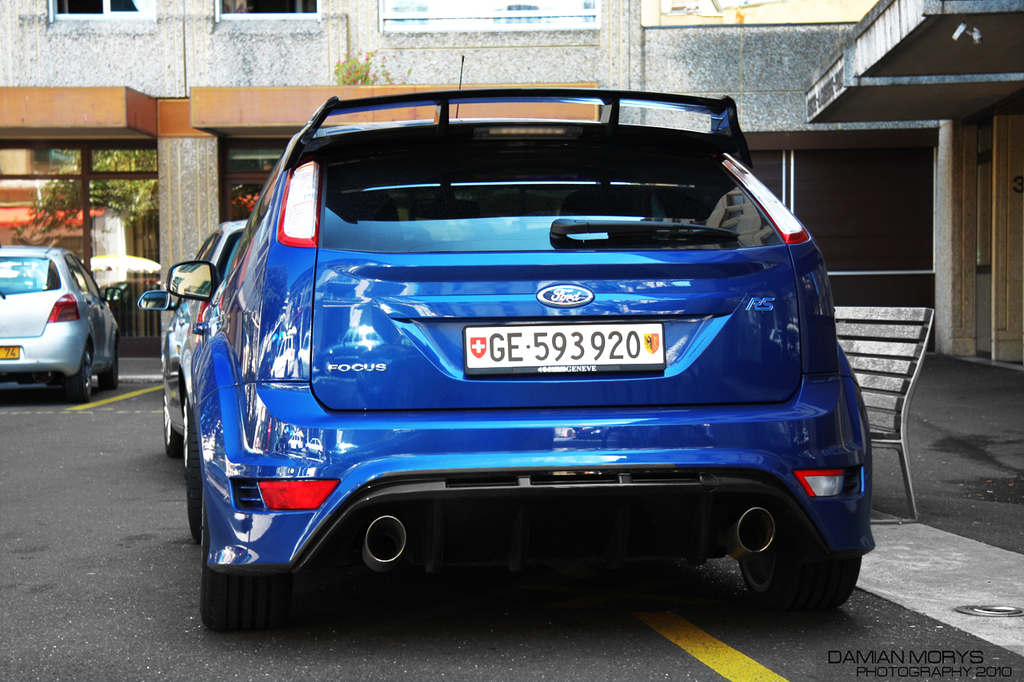Car: (166, 55, 875, 631), (138, 221, 244, 448), (0, 243, 121, 402)
